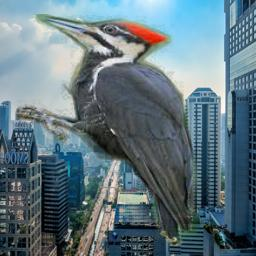Woodpecker: (17, 14, 209, 246)
